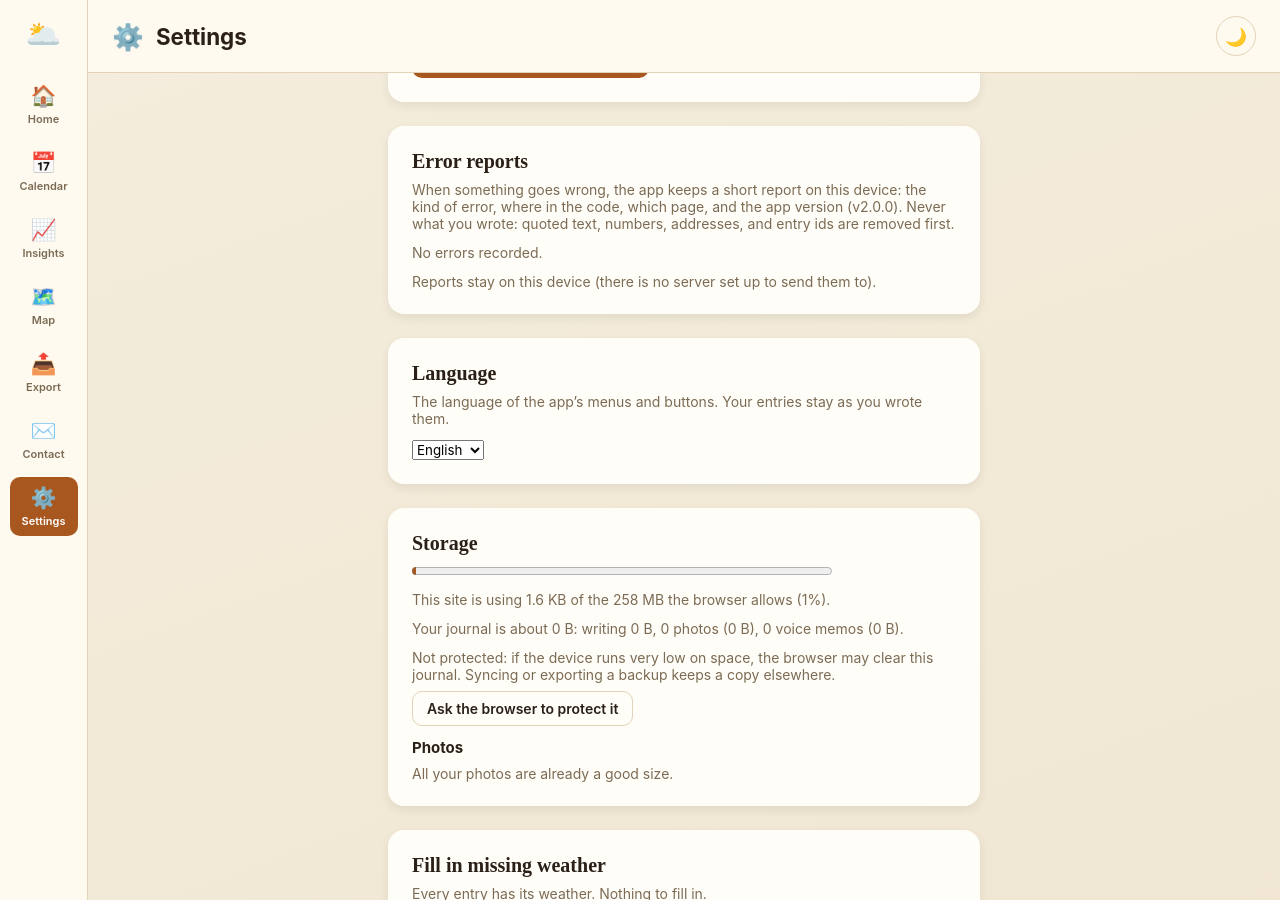
Test: Language in the app › switches the menus from Settings, remembers it, and sets the page language
(page scrolled)
Check: the navigation bar named "Main navigation" is shown, box [0,0,88,899]
Select "Español" in the dropdown named "App language" at [448, 450], box [412,440,484,460]
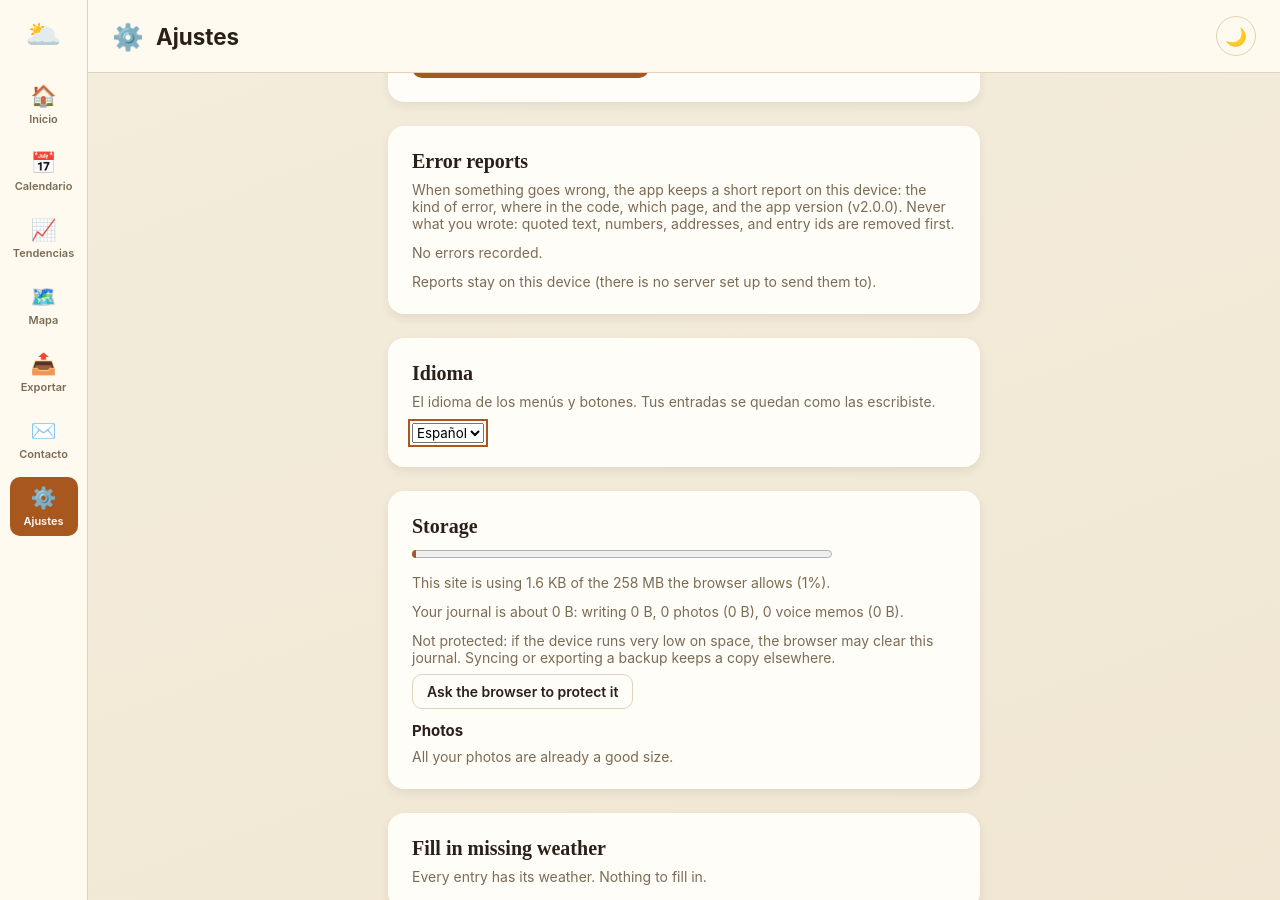
Check: the link "⚙️ Ajustes" is shown, box [10,477,78,536]
Check: the heading "Ajustes" is shown, box [156,22,239,50]
